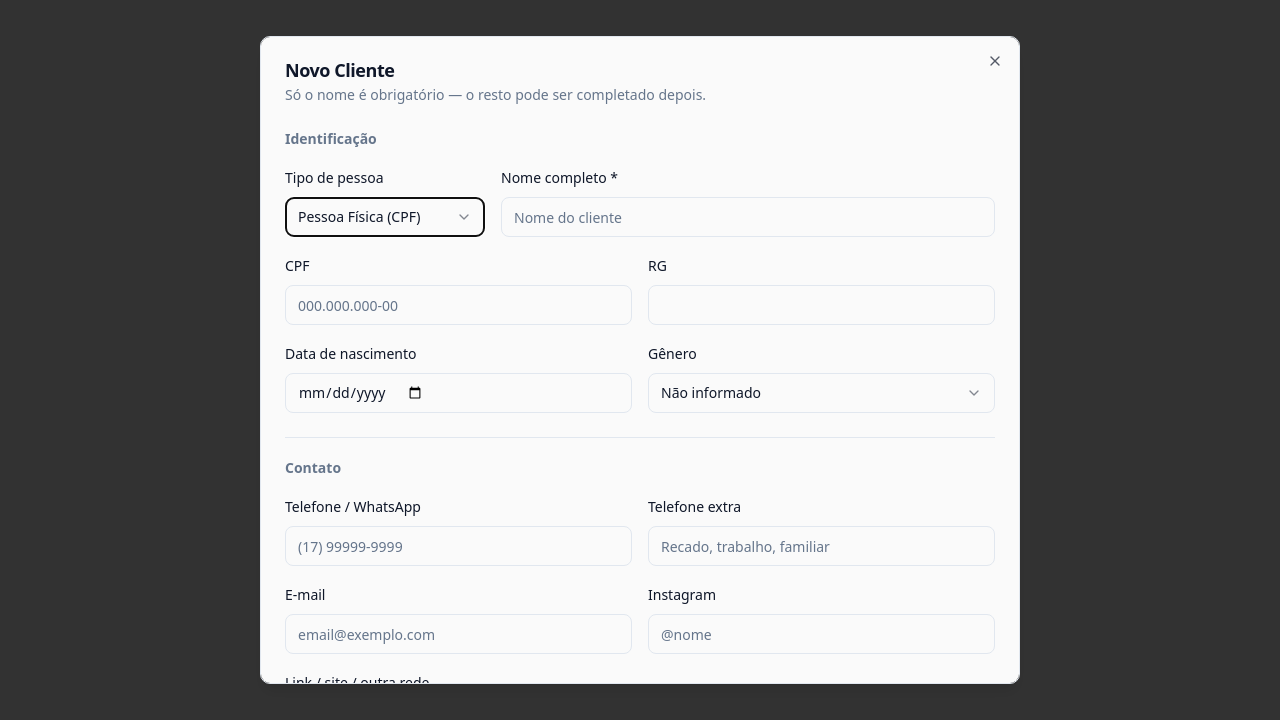
Scenario: Cadastro de cliente: telefone extra repetido › acha o dono do telefone extra e oferece usar o cadastro dele
The width and height of the screenshot is (1280, 720).
Type "Bruna Lima" into the field labelled "Nome completo *" at (748, 217), box [501, 197, 995, 237]
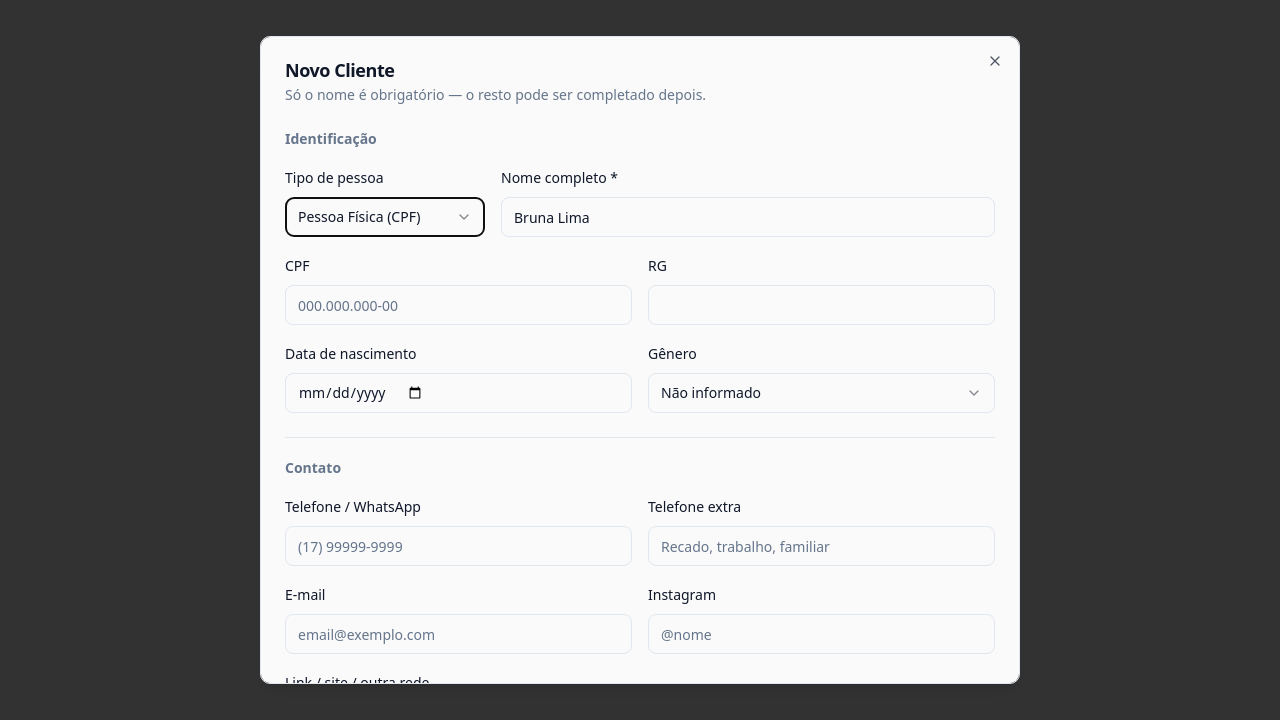
Type "(17) 99111-2222" into the field labelled "Telefone extra" at (822, 546), box [648, 526, 995, 566]
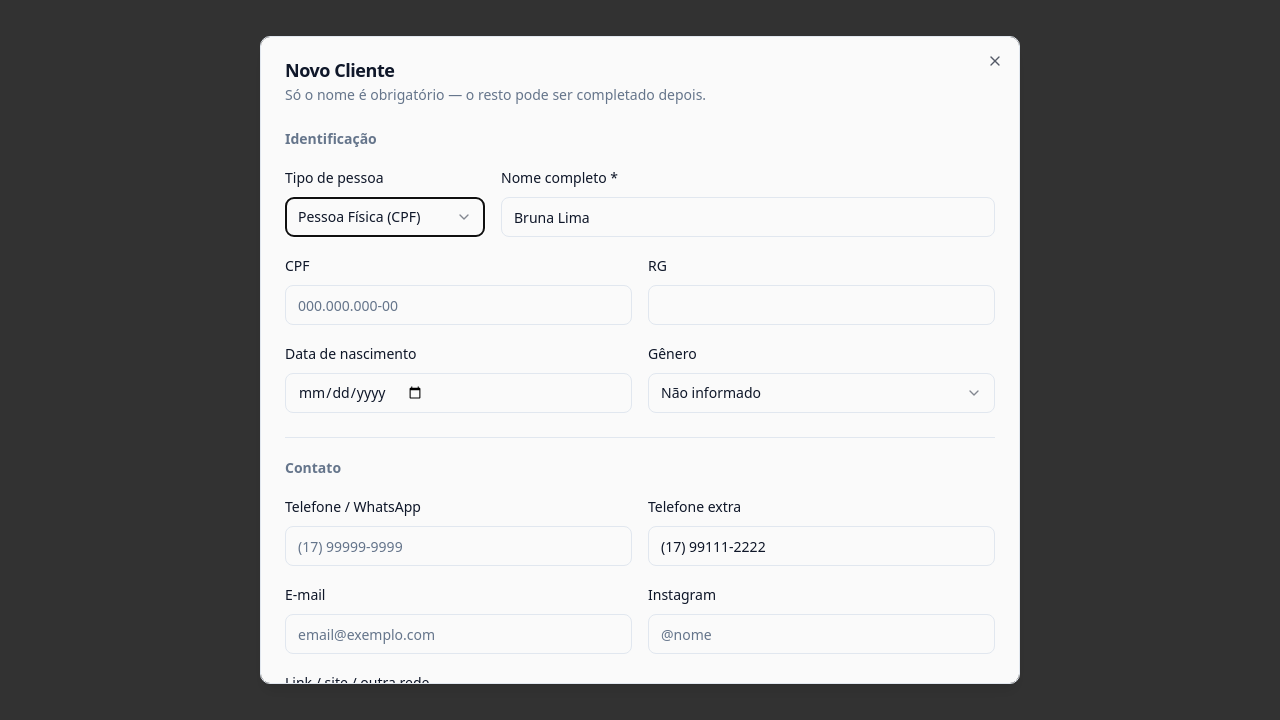
Leave the field labelled "Telefone extra", box [648, 526, 995, 566]
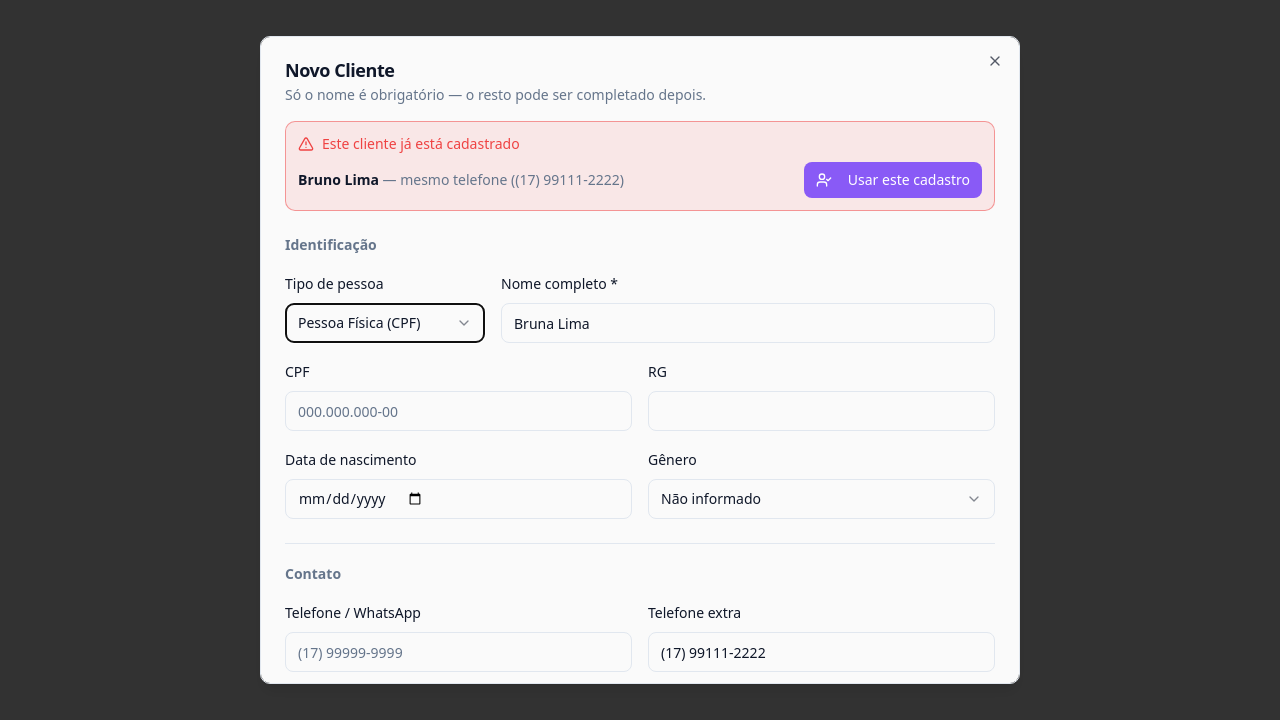
Expected: the text "Bruno Lima" is shown, [298, 170, 379, 189]
Expected: the button "Usar este cadastro" is shown, [804, 162, 982, 198]
